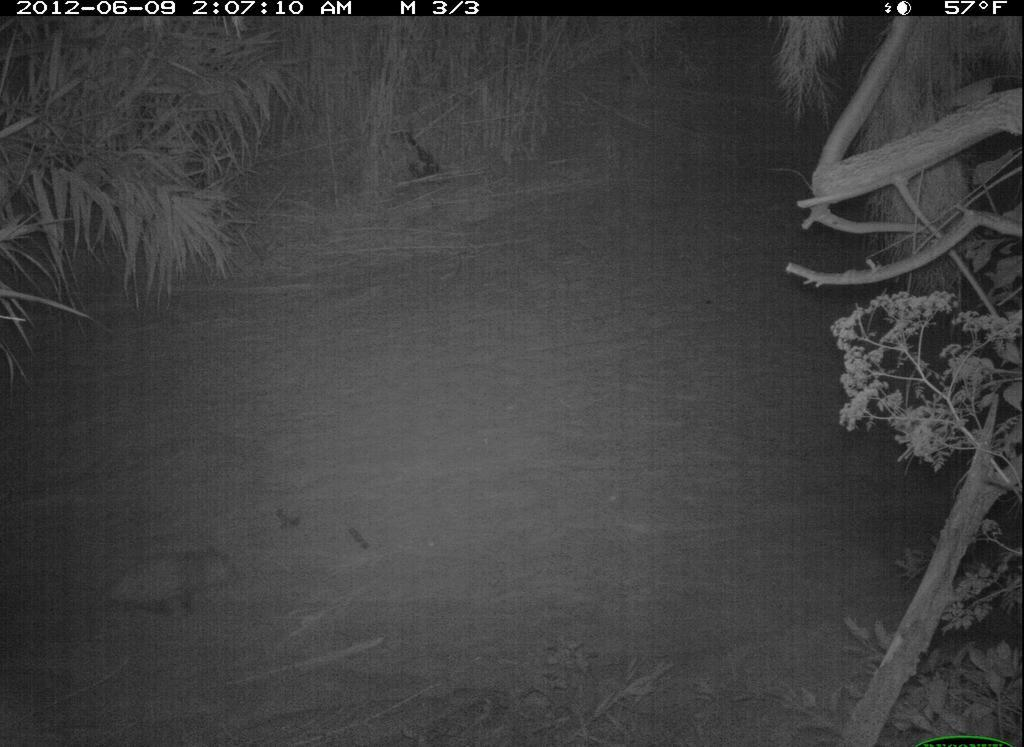opossum: (66, 523, 268, 639)
